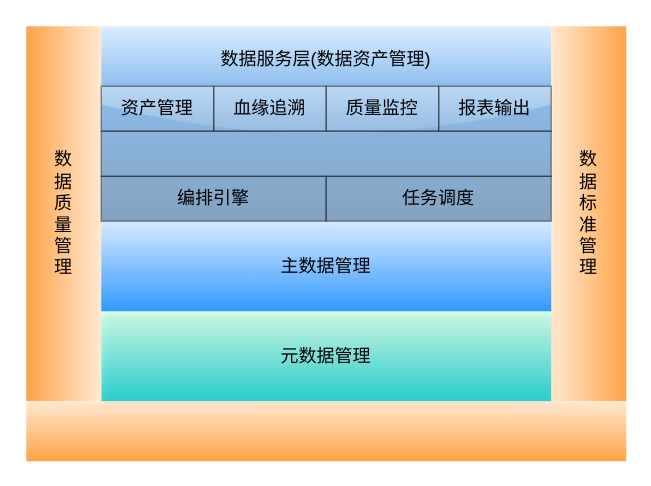
This 651x486 diagram has some shape labels left out. Each missing label, with the centre of its shape:
数据安全管理: the point at 326,430
数据开发工具套件: the point at 325,153
